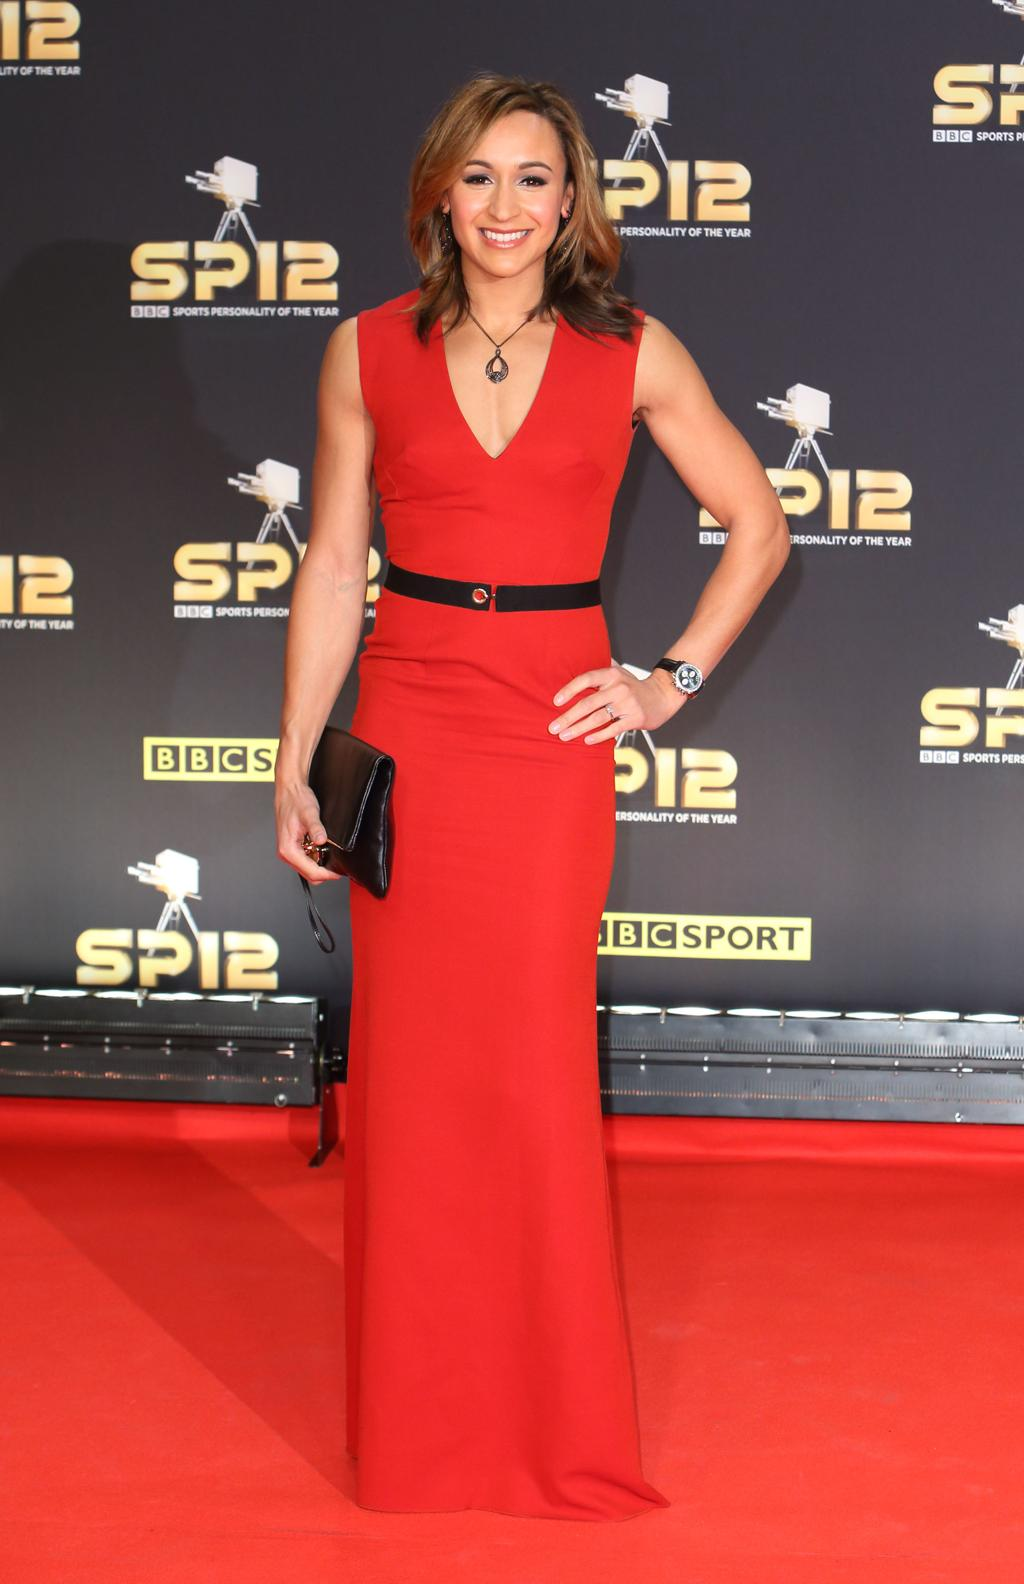face: (449, 111, 567, 272)
